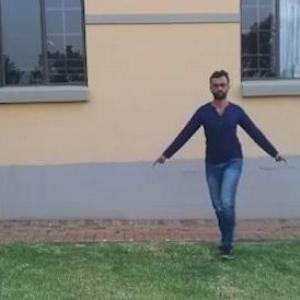land: (172, 78, 276, 238)
